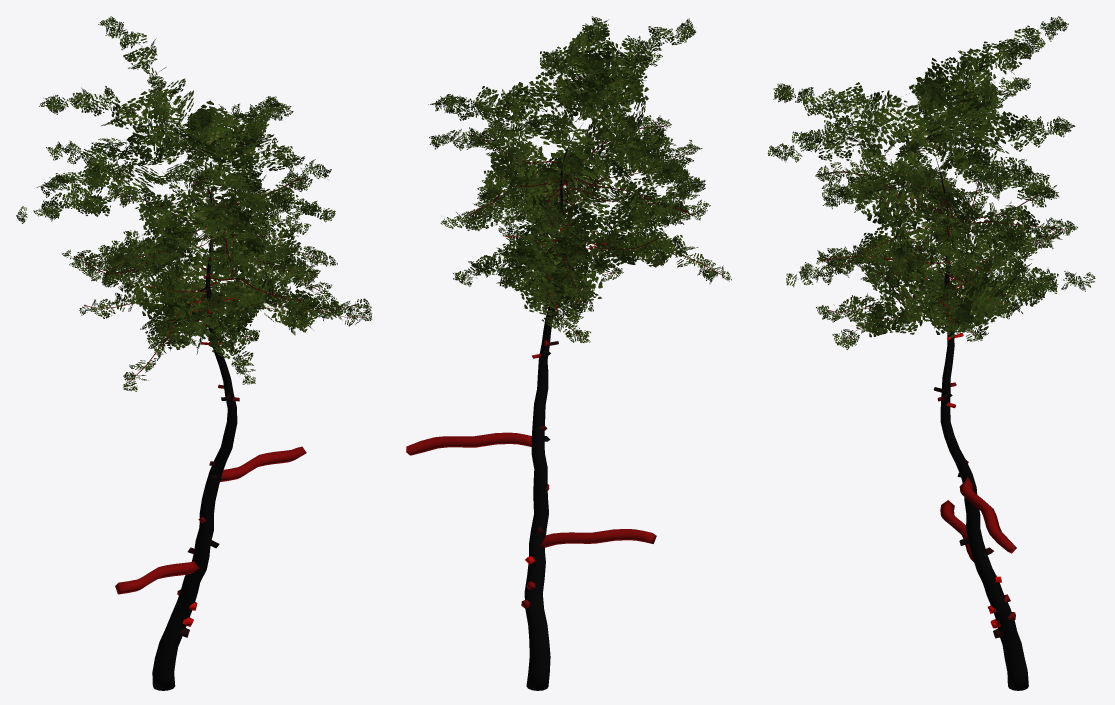
3 renders of one model, left to right at view 1: azimuth 30°, elevation 25°; view 2: azimuth 150°, elevation 25°; view 3: azimuth 270°, elevation 25°, orthographic.
Visible parts, largest first — view 1: Tree20; view 2: Tree20; view 3: Tree20.
Boxes of the visible parts, x1,y1,x2,y2 form: Tree20: [16, 16, 372, 690]; Tree20: [406, 16, 731, 690]; Tree20: [767, 16, 1095, 690].
Size of the model in its own units: 4 by 8.5 by 4.
